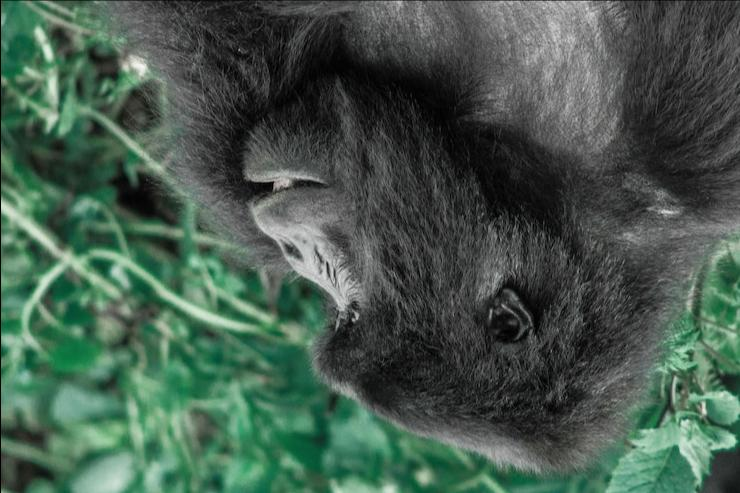gorille_Autres: (117, 0, 728, 493)
